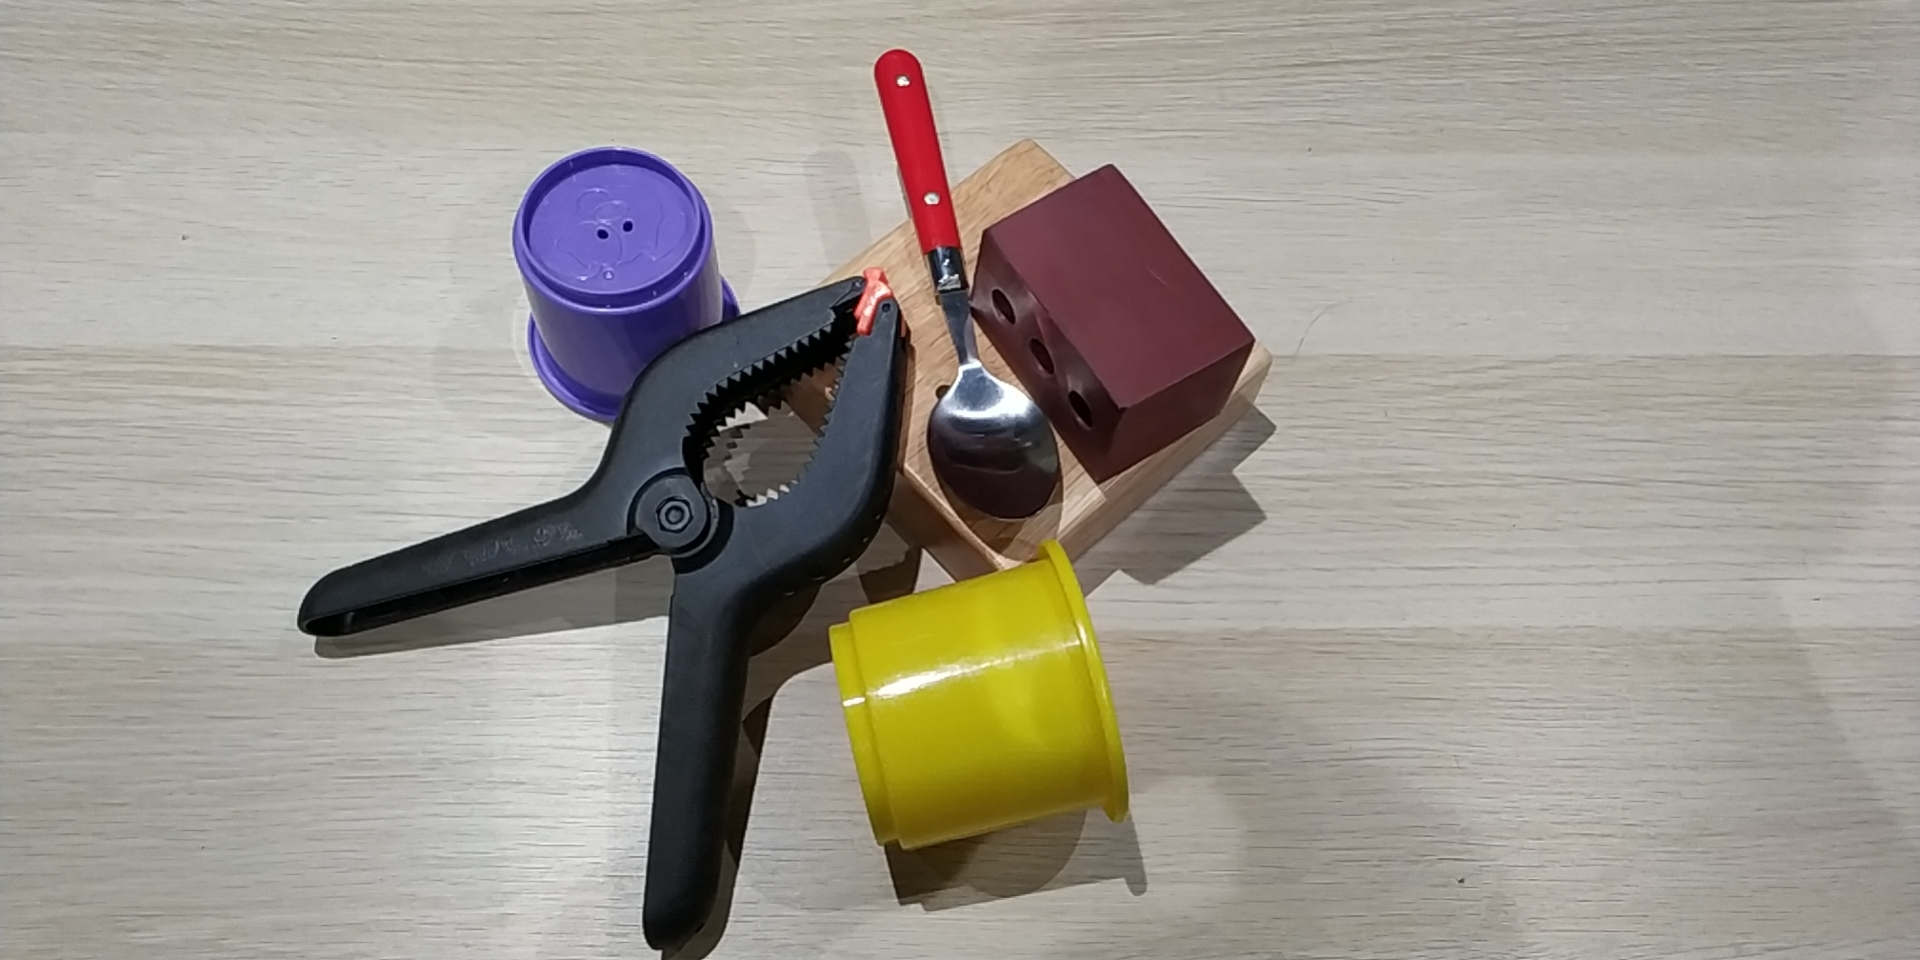box: (778, 137, 1272, 587), (972, 170, 1250, 482)
cup: (827, 541, 1139, 851), (500, 142, 747, 425)
gripper: (299, 276, 909, 958)
spoon: (877, 47, 1069, 525)
